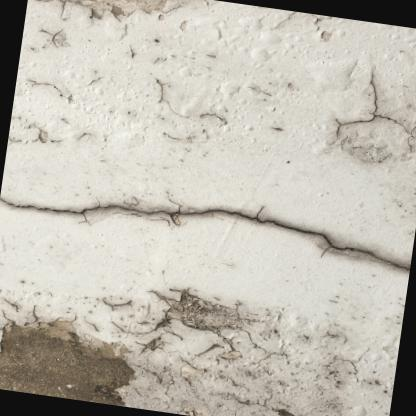crack: (0, 196, 410, 268)
